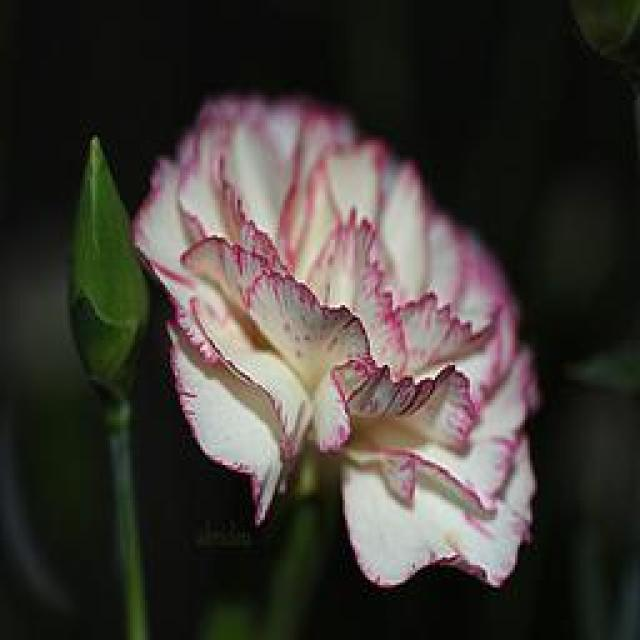carnation: (133, 92, 582, 606)
